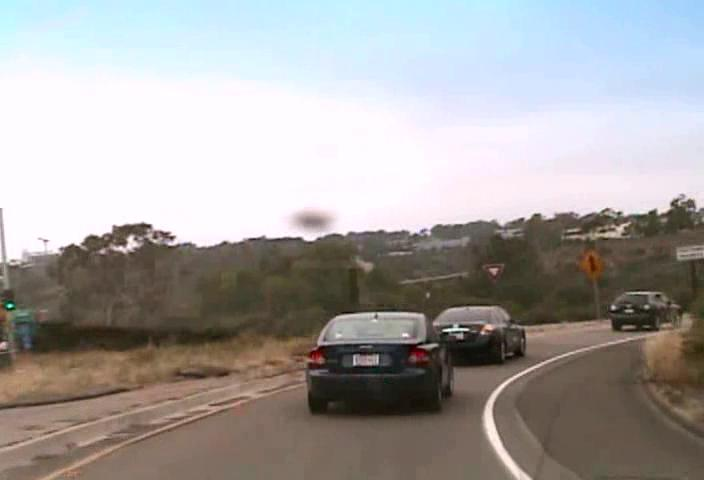merge: (577, 246, 606, 279)
